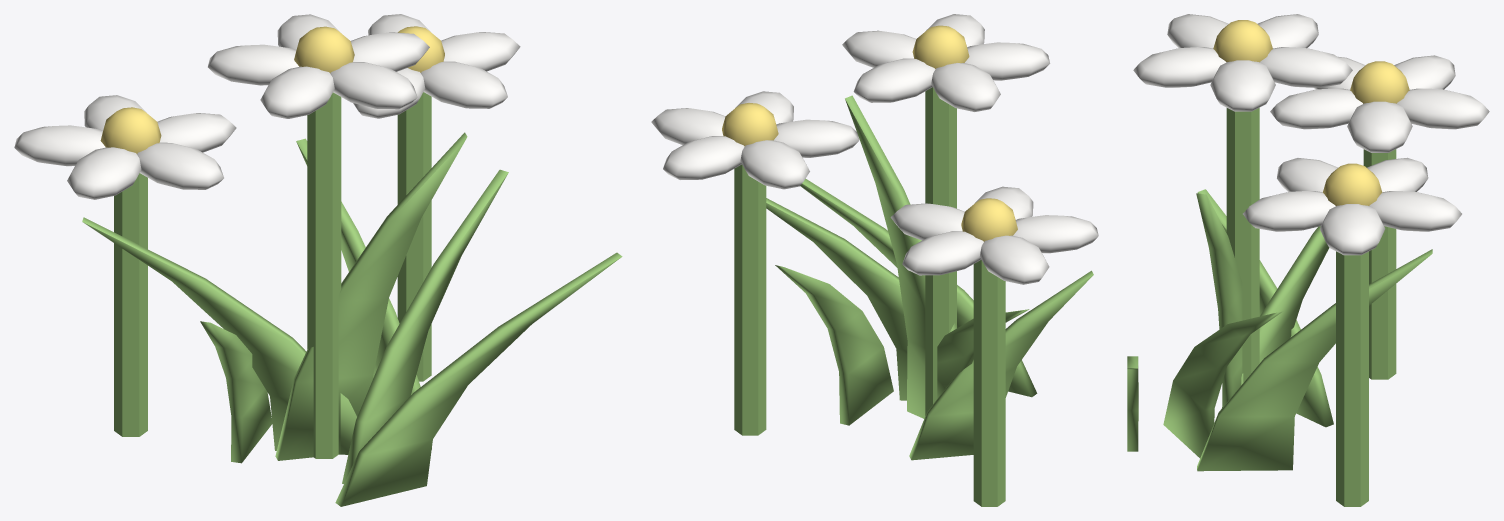
The model's file is decor_flower.fbx.
The picture shows the model from 3 angles, left to right: view 1: azimuth 30°, elevation 25°; view 2: azimuth 150°, elevation 25°; view 3: azimuth 270°, elevation 25°; orthographic projection. The views are drawn at different scales.
Parts seen in each view (by area): view 1: DecorFlower; view 2: DecorFlower; view 3: DecorFlower.
Boxes of the visible parts, x1=… form: DecorFlower: x1=14, y1=14, x2=622, y2=506; DecorFlower: x1=651, y1=14, x2=1098, y2=506; DecorFlower: x1=1127, y1=14, x2=1489, y2=506.
Size of the model in its own units: 0.1864 by 0.165 by 0.1325.
